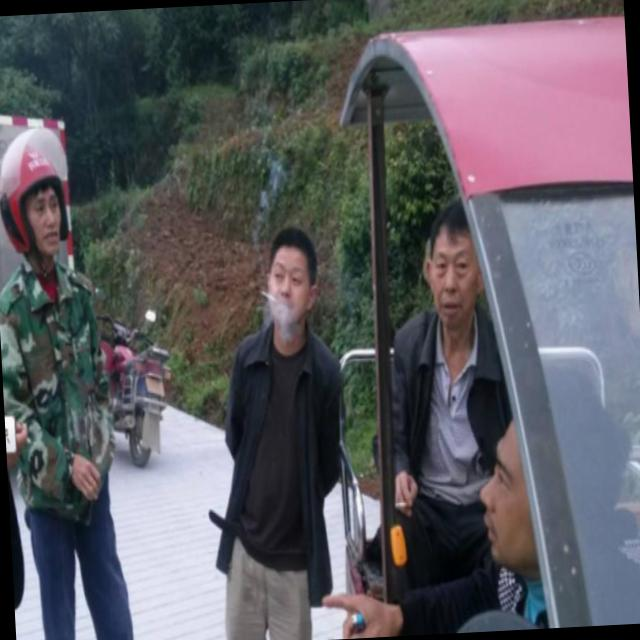cigarette: (252, 282, 286, 315)
